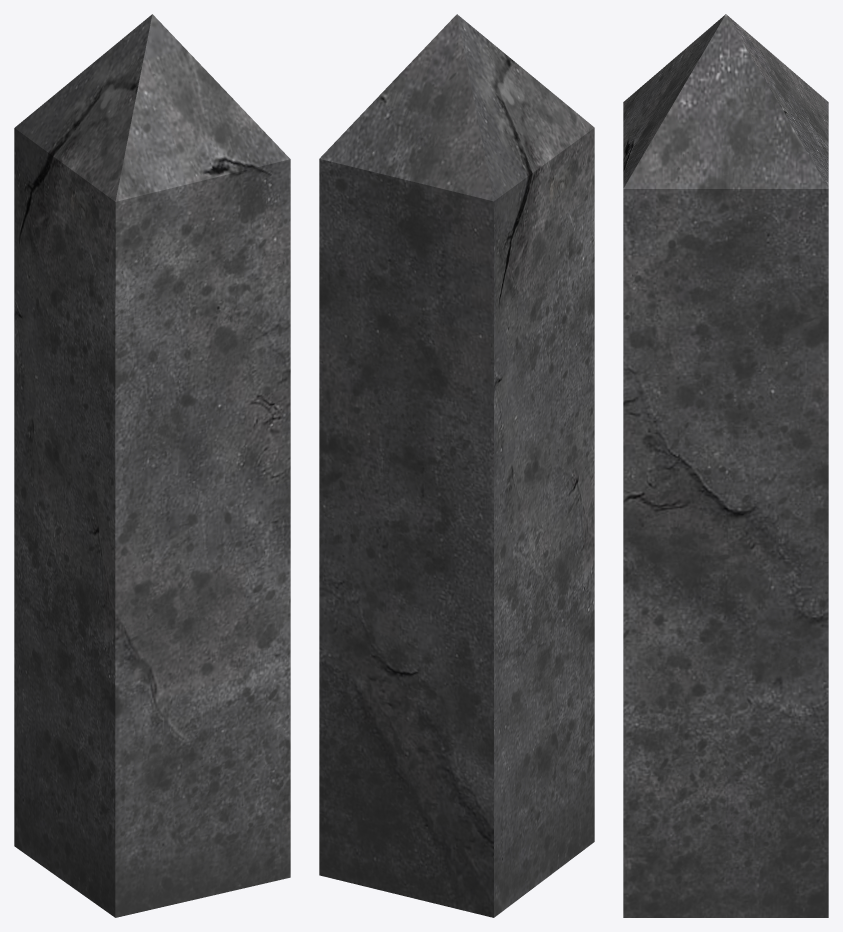
The model's file is Obelisk.fbx.
The picture shows the model from 3 angles, left to right: view 1: azimuth 30°, elevation 25°; view 2: azimuth 150°, elevation 25°; view 3: azimuth 270°, elevation 25°; orthographic projection.
Visible parts, largest first — view 1: Obelisk; view 2: Obelisk; view 3: Obelisk.
Boxes of the visible parts, box(x1,y1,x2,y2) form: Obelisk: box(14, 14, 290, 917); Obelisk: box(319, 14, 594, 917); Obelisk: box(623, 14, 828, 917).
Size of the model in its own units: 1.7 by 7.87 by 1.7.
Materials: 1 (1 with a texture image).
